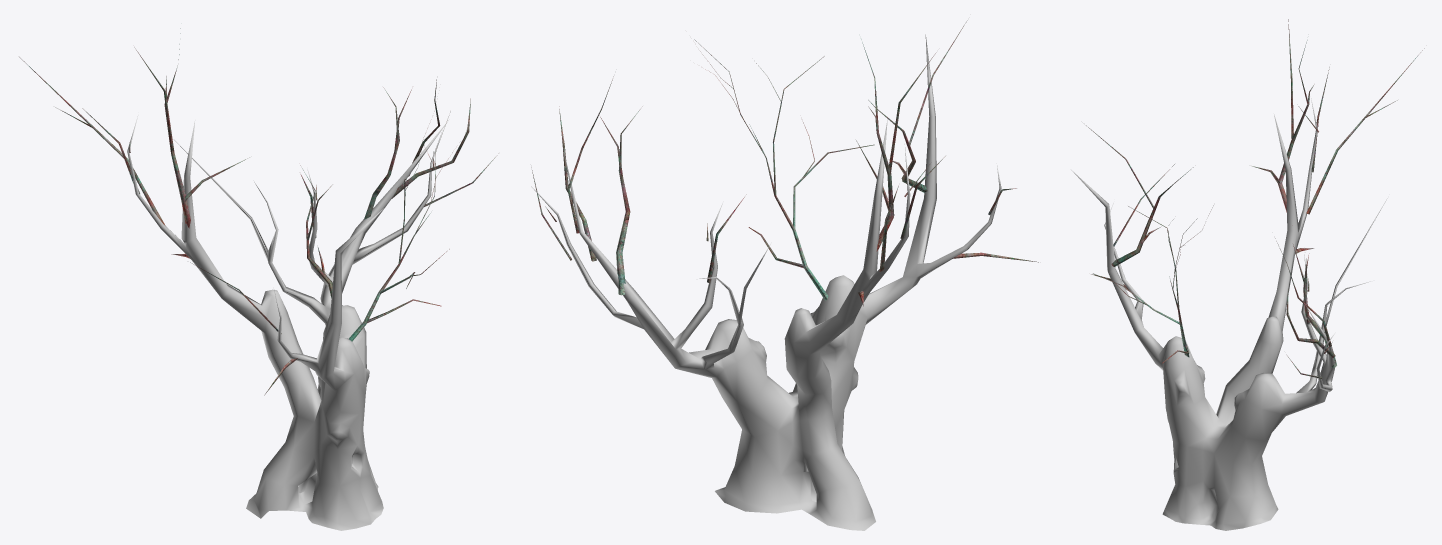
Rendered from tree.obj.
3 renders of one model, left to right at view 1: azimuth 30°, elevation 25°; view 2: azimuth 150°, elevation 25°; view 3: azimuth 270°, elevation 25°, orthographic. The views are drawn at different scales.
Size of the model in its own units: 92.47 by 104 by 77.48.
